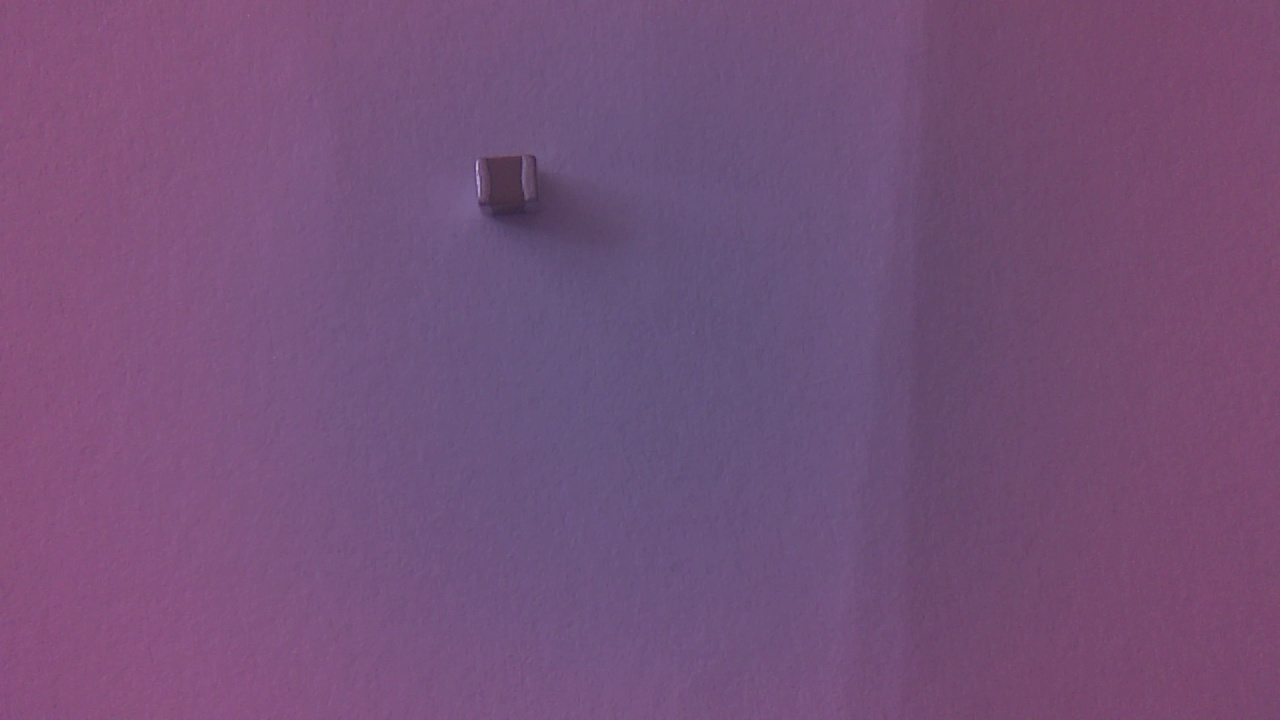Condensator: (475, 155, 551, 226)
